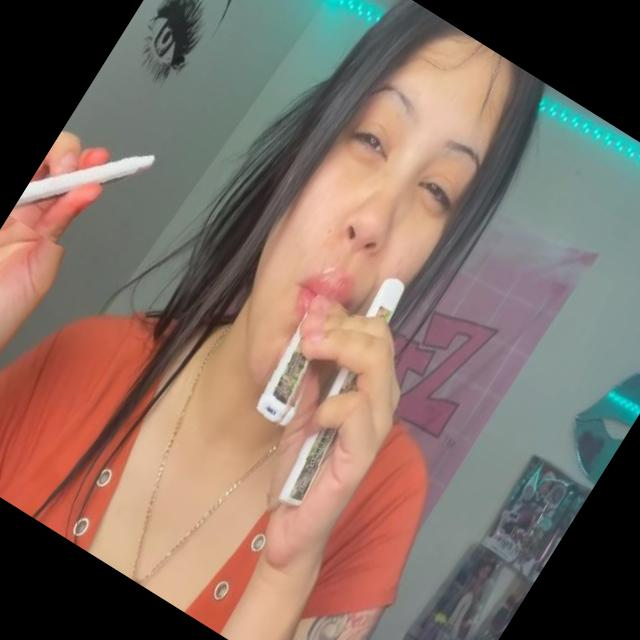Hazard: (253, 272, 429, 512), (8, 106, 158, 266), (245, 291, 358, 432)
